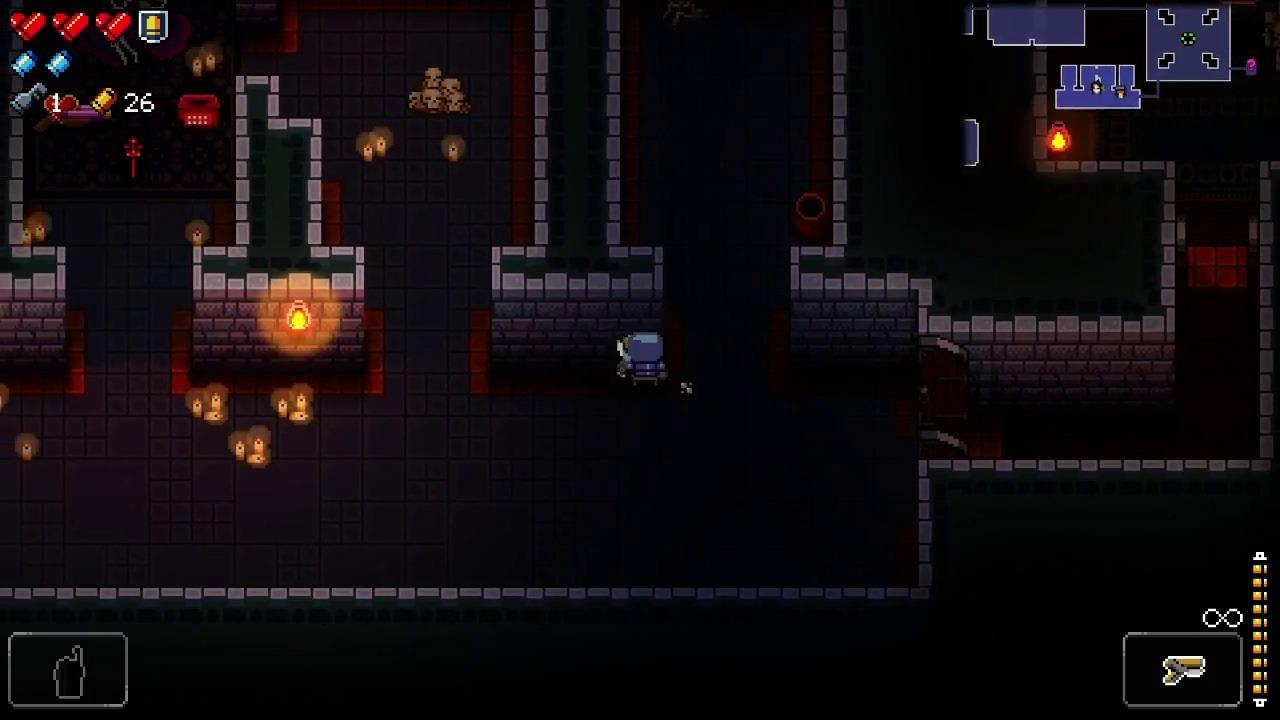player: (625, 332, 666, 386)
unlocked_door: (918, 335, 968, 460), (1175, 212, 1189, 318), (1248, 212, 1260, 301)
